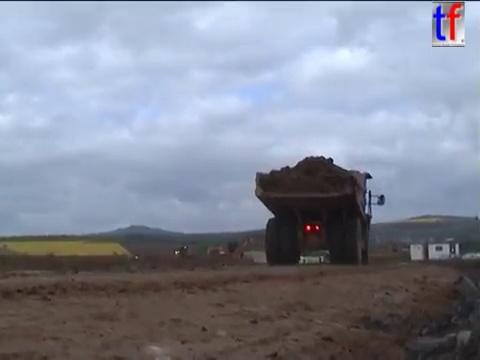excavator: (205, 232, 260, 265)
truck: (253, 168, 388, 267)
